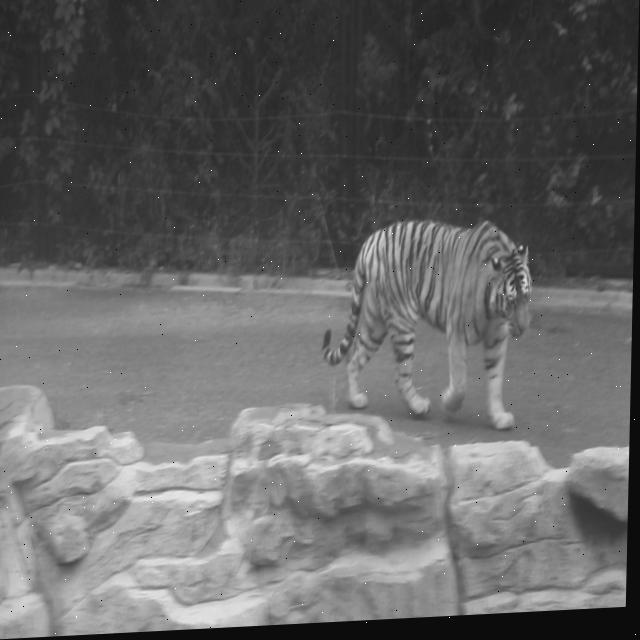Tiger: (319, 209, 534, 441)
